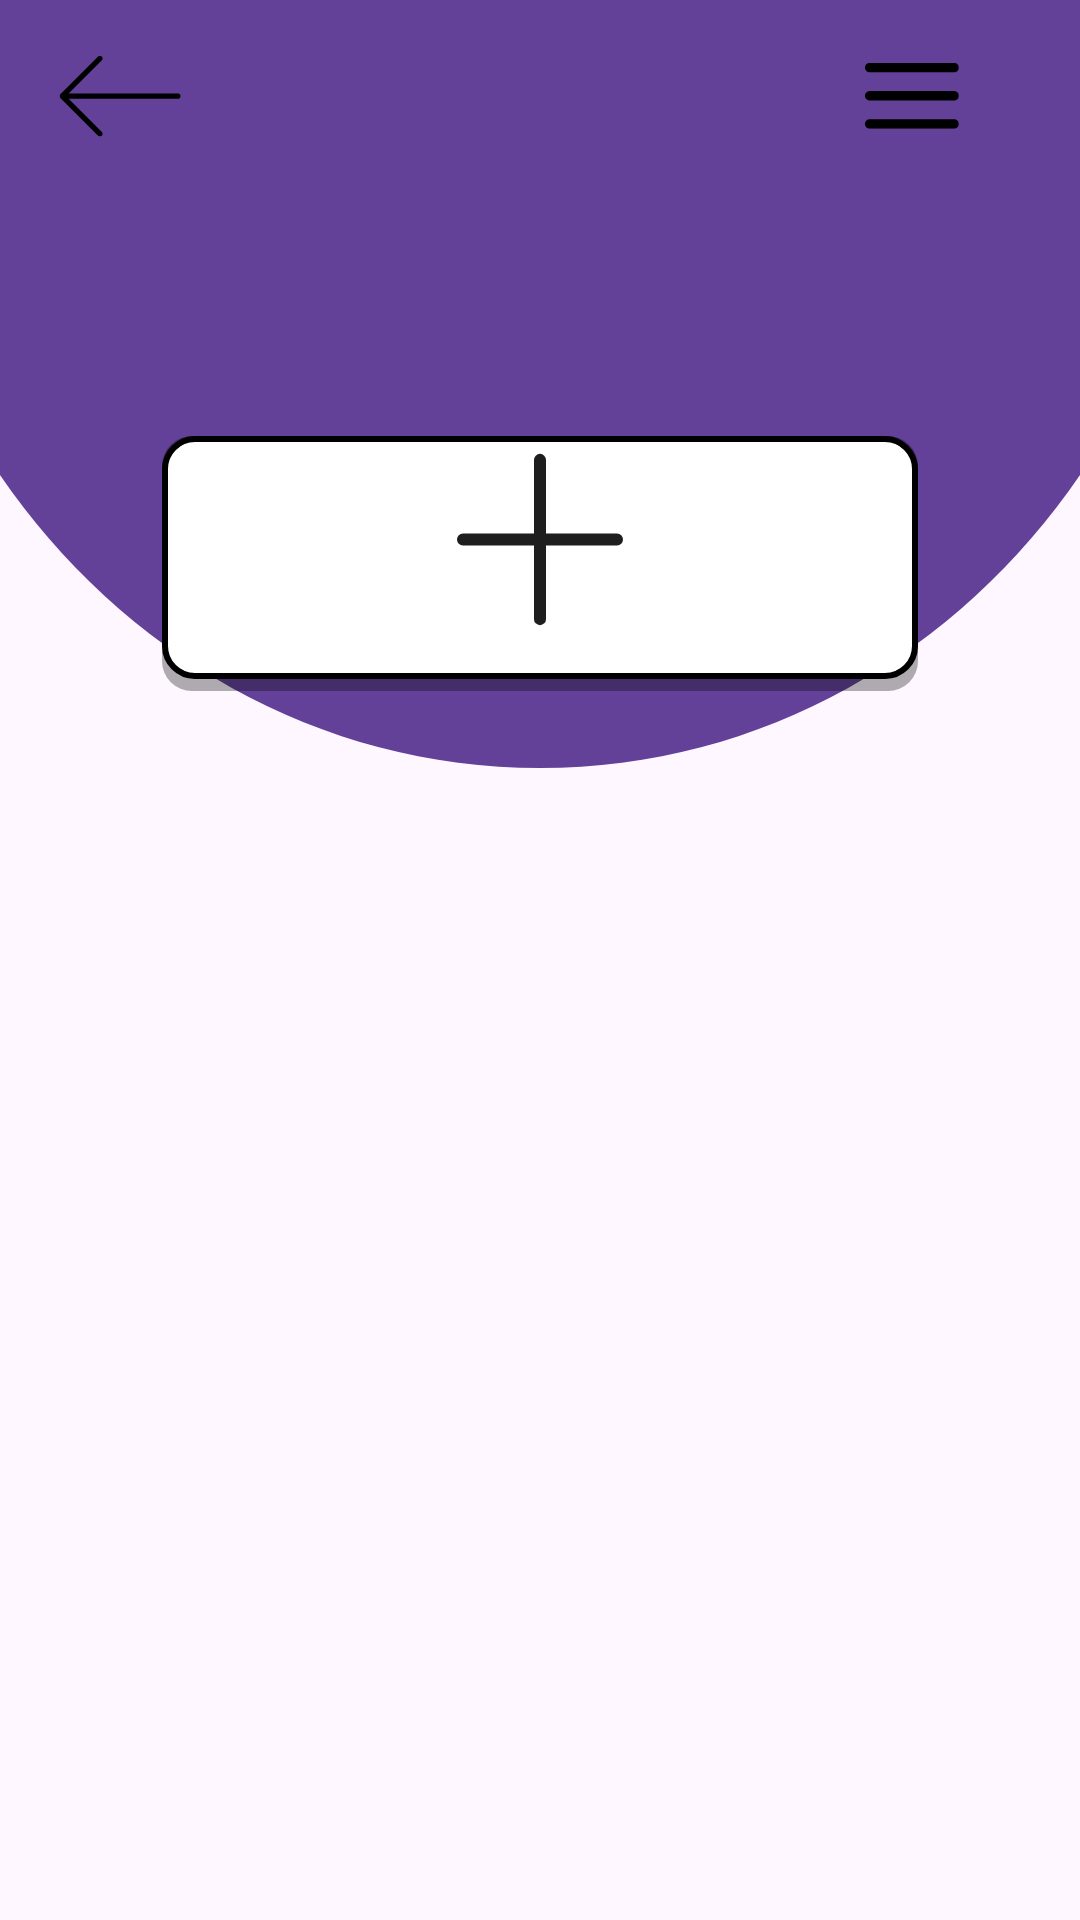

Locate icon controls on the screen. Image size 1080x1920, boxes as (x1, y1, x2, y2).
back: (59, 56, 181, 137)
menu: (865, 63, 959, 129)
plus: (457, 453, 623, 625)
